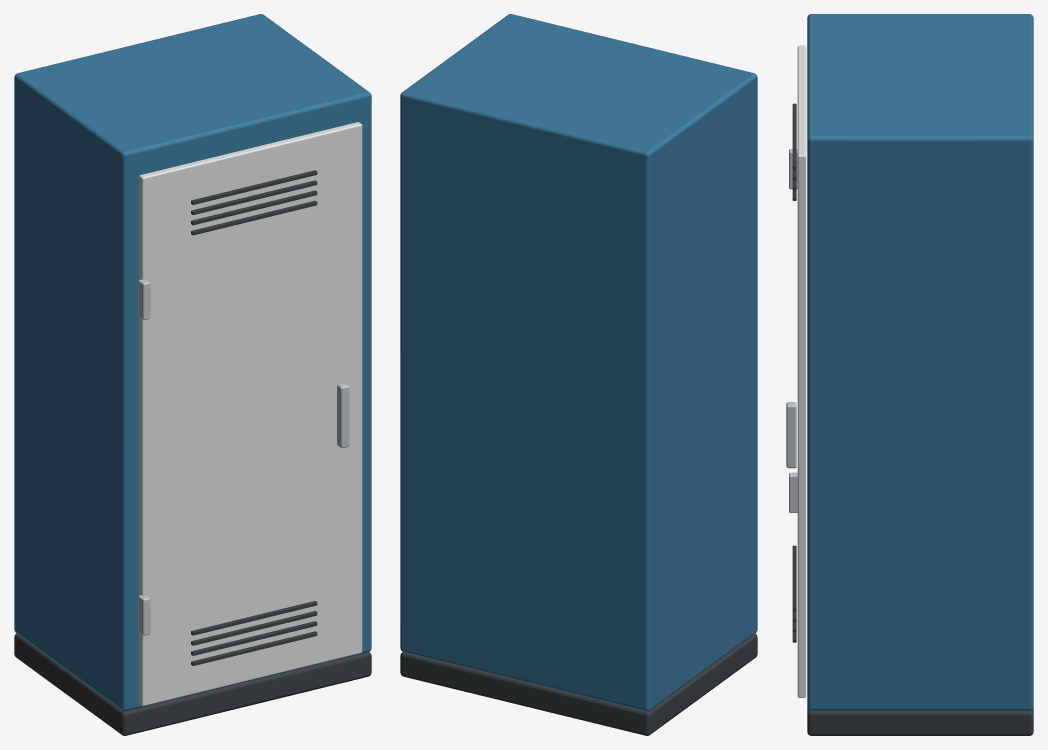
The model's file is recycling-centre-and-material-sorting-staff-protective-524d982a__31152.glb.
The picture shows the model from 3 angles, left to right: view 1: azimuth 30°, elevation 25°; view 2: azimuth 150°, elevation 25°; view 3: azimuth 270°, elevation 25°; orthographic projection. The views are drawn at different scales.
Visible parts, largest first — view 1: staff-protective-equipment-locker; view 2: staff-protective-equipment-locker; view 3: staff-protective-equipment-locker.
Part boxes in pixels (x1,y1,x2,y2): staff-protective-equipment-locker: (14, 14, 371, 735); staff-protective-equipment-locker: (400, 14, 757, 735); staff-protective-equipment-locker: (786, 14, 1033, 735).
Size of the model in its own units: 0.8499 by 1.9 by 0.71.
